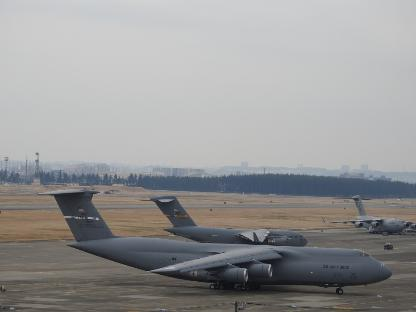C17: (35, 189, 391, 294)
C2: (138, 196, 308, 247), (321, 195, 415, 235)
